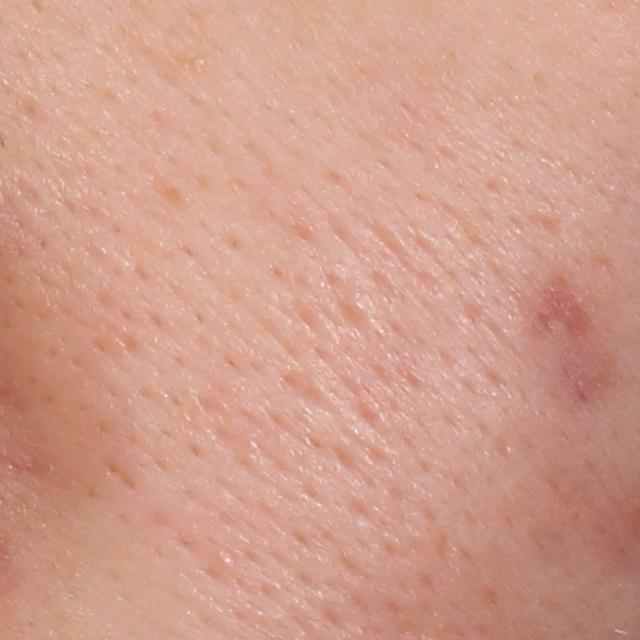atrophic_scar: (537, 275, 590, 339), (256, 315, 299, 369), (520, 206, 564, 238), (105, 460, 130, 493)
